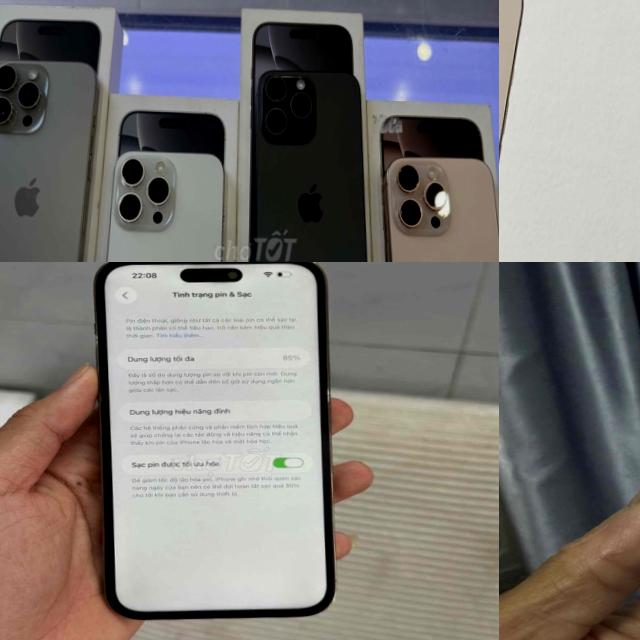gen_14: (77, 262, 365, 636)
gen_16: (92, 145, 224, 262)
